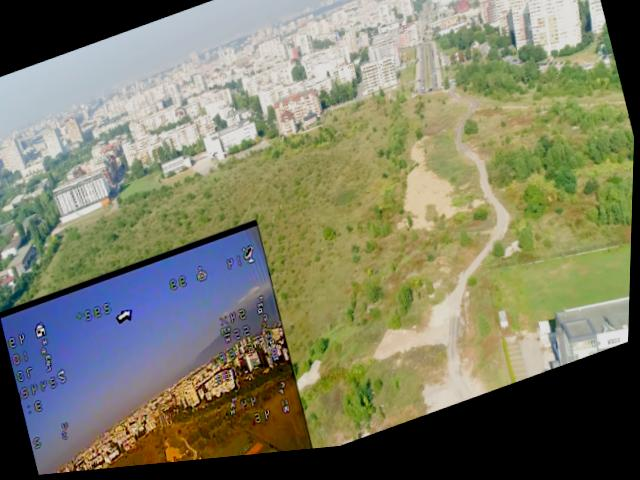plane: (209, 154, 225, 169)
